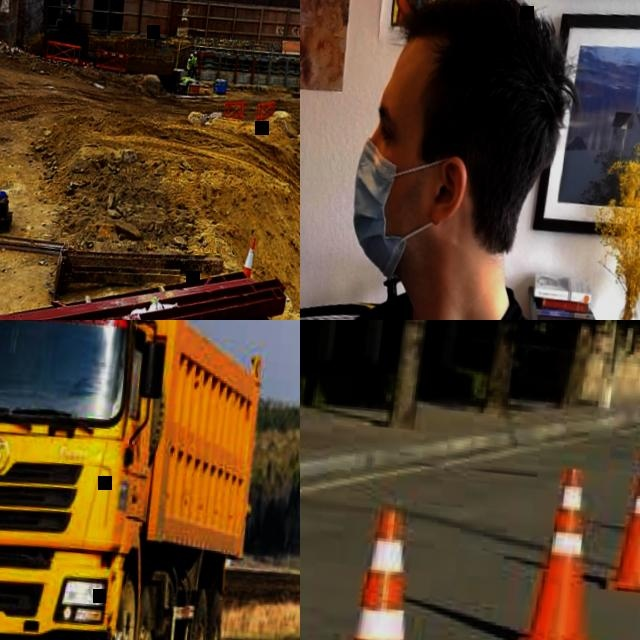Hardhat: (190, 52, 194, 57), (194, 51, 198, 54)
Mask: (342, 136, 447, 291)
NO-Hardhat: (396, 0, 580, 118)
Person: (300, 0, 640, 320), (191, 50, 202, 79), (186, 52, 194, 77)
Safety Cone: (300, 500, 461, 640), (508, 463, 615, 640), (612, 443, 640, 596), (242, 237, 258, 280)
Safety Vest: (187, 57, 194, 71), (193, 57, 198, 65)
machinery: (0, 320, 283, 640)
